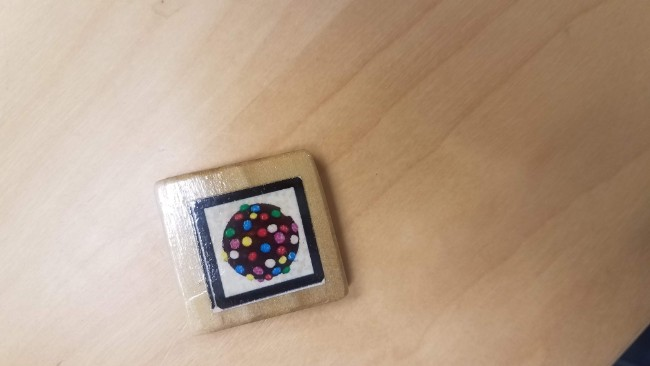cookie: (177, 169, 334, 318)
